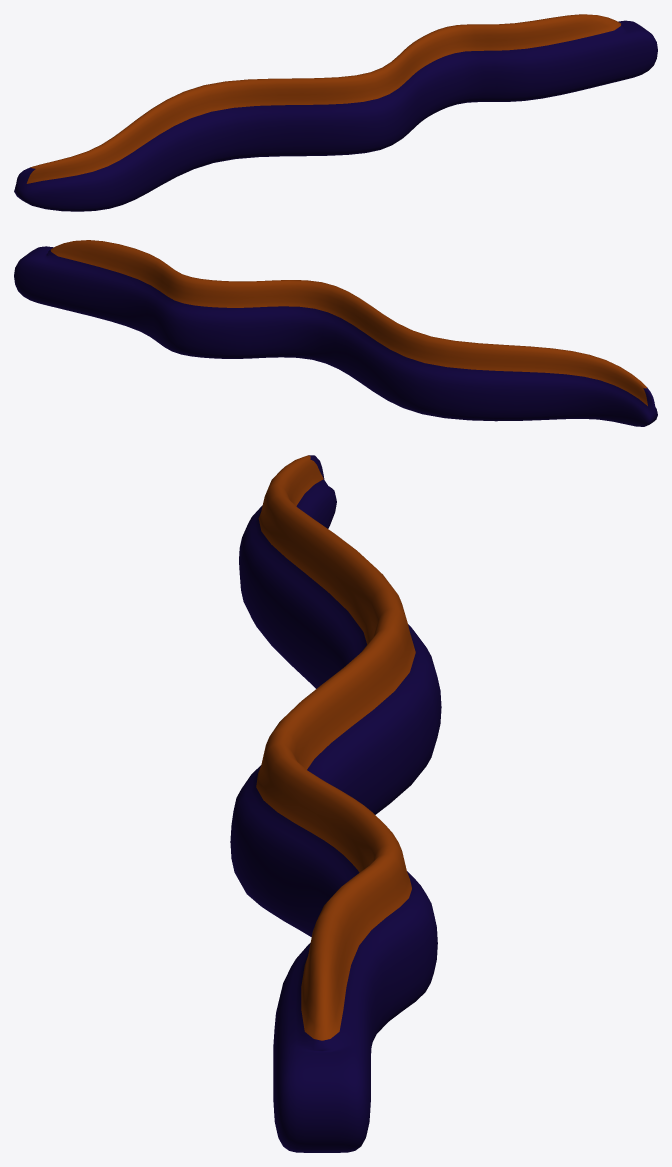
The model's file is eel.fbx.
The picture shows the model from 3 angles, top to bottom: view 1: azimuth 30°, elevation 25°; view 2: azimuth 150°, elevation 25°; view 3: azimuth 270°, elevation 25°; orthographic projection. The views are drawn at different scales.
Parts seen in each view (by area): view 1: Cube; view 2: Cube; view 3: Cube.
Boxes of the visible parts, x1,y1,x2,y2 form: Cube: (14,14,657,211); Cube: (14,240,657,426); Cube: (230,455,441,1152).
Bounding box in the file's own units: 2911 × 316 × 420.
